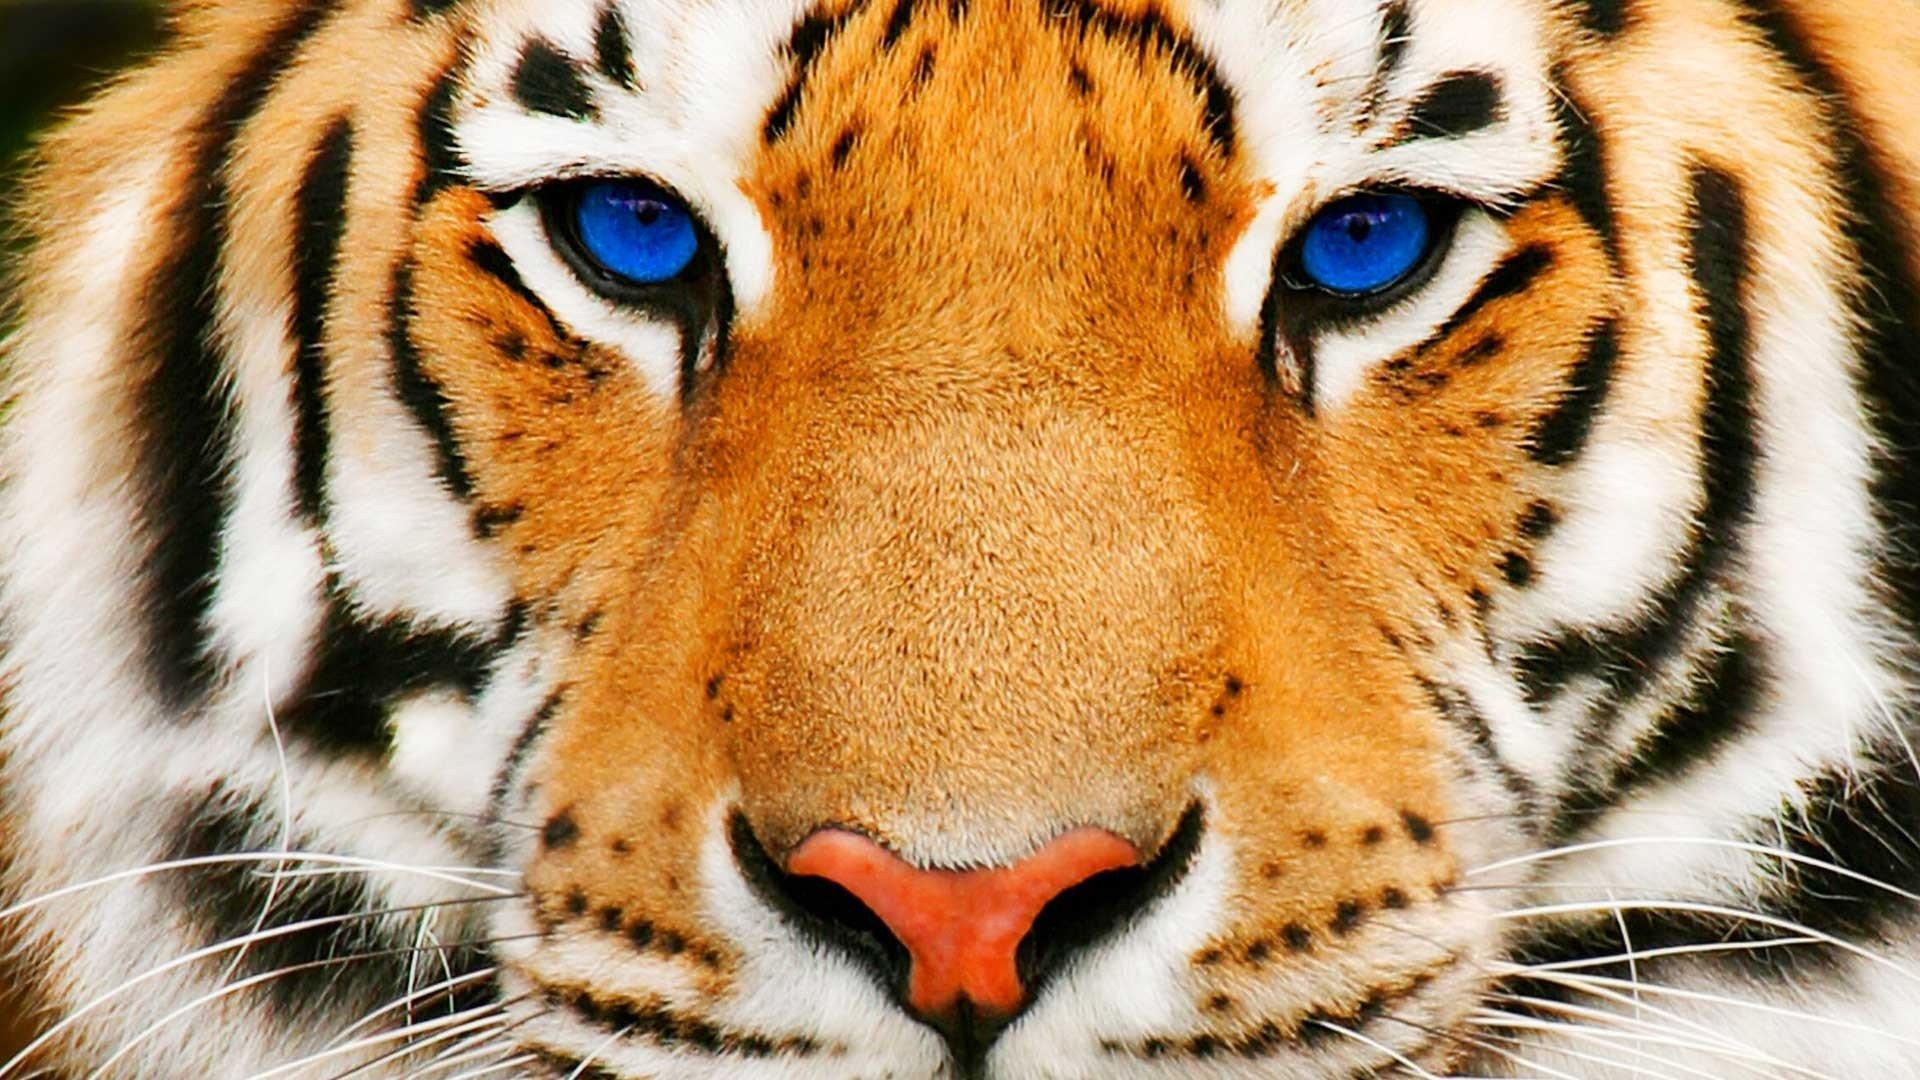Tigrew: (124, 16, 1859, 1048)
